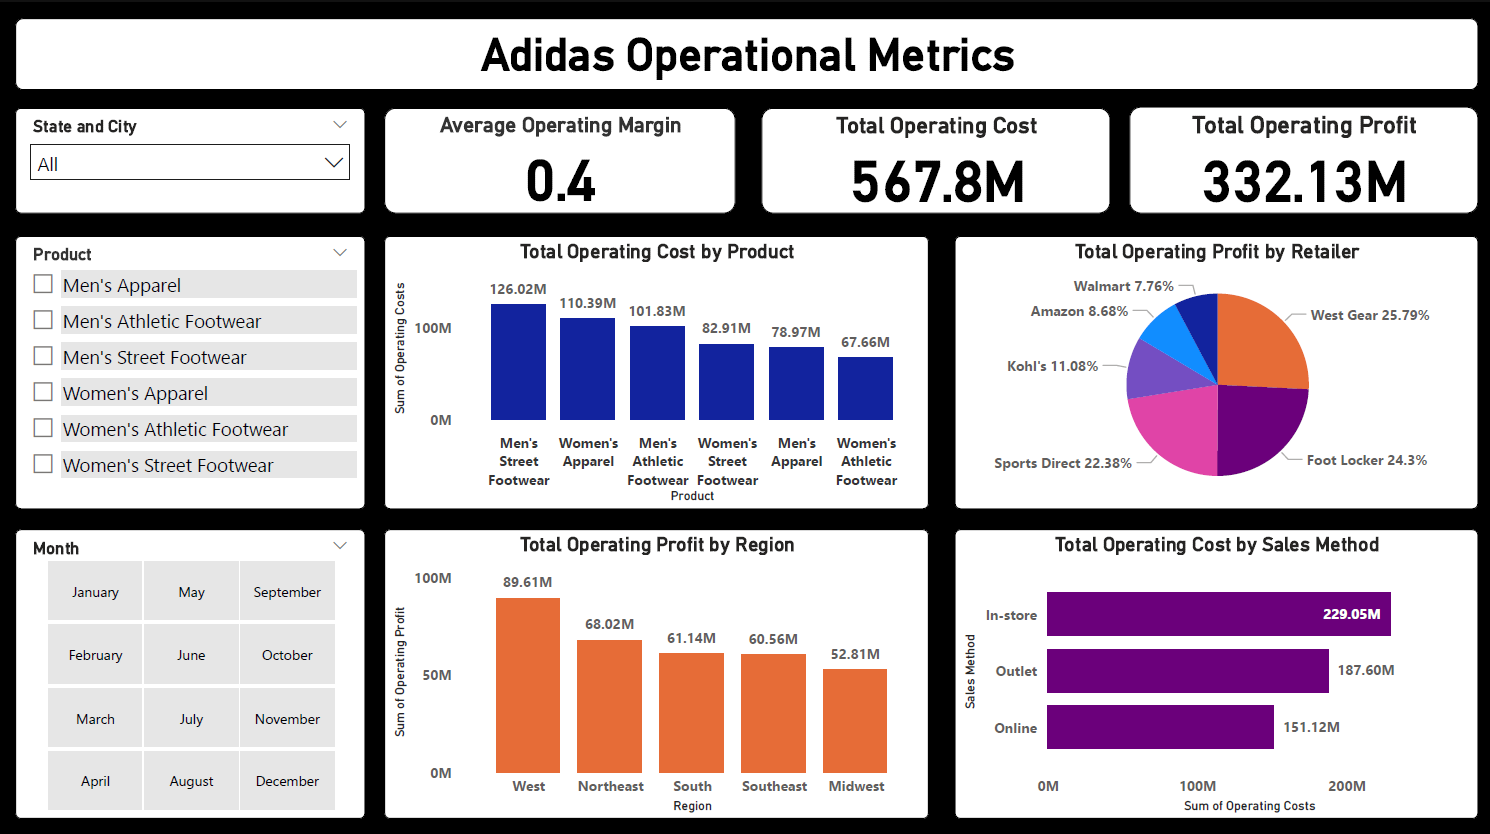

The page's visual inventory and layout, read from the dashboard file:
{"tool":"powerbi","page":{"name":"Adidas Operating","canvas":[1280,720],"ordinal":1},"visuals":[{"type":"card","title":"Total Operating Cost","fields":{"Values":["Sum(Adidas Sales Data.Operating Costs)"]},"box":[654.5,89.8,299.9,91.6],"z":0},{"type":"textbox","box":[12.6,12.6,1257.8,62.8],"z":1000},{"type":"card","title":"Average Operating Margin","fields":{"Values":["Avg(Adidas Sales Data.Operating Margin)"]},"box":[330.4,89.8,301.6,91.6],"z":2000},{"type":"card","title":"Total Operating Profit","fields":{"Values":["Sum(Adidas Sales Data.Operating Profit)"]},"box":[969.6,88.9,300.7,92.5],"z":3000},{"type":"columnChart","title":"Total Operating Profit by Region","fields":{"Category":["Adidas Sales Data.Region"],"Y":["Sum(Adidas Sales Data.Operating Profit)"]},"box":[330.4,452.5,467.7,248.7],"z":4000},{"type":"columnChart","title":"Total Operating Cost by Product","fields":{"Category":["Adidas Sales Data.Product"],"Y":["Sum(Adidas Sales Data.Operating Costs)"]},"box":[330.4,200.2,467.7,235.2],"z":5000},{"type":"clusteredBarChart","title":"Total Operating Cost by Sales Method","fields":{"Category":["Adidas Sales Data.Sales Method"],"Y":["Sum(Adidas Sales Data.Operating Costs)"]},"box":[819.7,452.5,450.7,248.7],"z":6000},{"type":"pieChart","title":"Total Operating Profit by Retailer","fields":{"Category":["Adidas Sales Data.Retailer"],"Y":["Sum(Adidas Sales Data.Operating Profit)"]},"box":[819.7,200.2,450.7,235.2],"z":7000},{"type":"slicer","fields":{"Values":["Adidas Sales Data.Product"]},"box":[12.6,200.2,301.6,235.2],"z":8000},{"type":"slicer","title":"State and City","fields":{"Values":["Adidas Sales Data.State","Adidas Sales Data.City"]},"box":[12.6,89.8,301.6,91.6],"z":9000},{"type":"slicer","fields":{"Values":["Adidas Sales Data.Invoice Date.Variation.Date Hierarchy.Month"]},"box":[12.6,452.5,301.6,248.7],"z":10000}]}

Visuals, with their boxes in screenshot pixels (x1, y1, x2, y2), scaled from the page's 1280x720 canvas onto the 1490x834 screenshot:
"Total Operating Cost" card: [762,104,1111,210]
textbox: [15,15,1479,87]
"Average Operating Margin" card: [385,104,736,210]
"Total Operating Profit" card: [1129,103,1479,210]
"Total Operating Profit by Region" columnChart: [385,524,929,812]
"Total Operating Cost by Product" columnChart: [385,232,929,504]
"Total Operating Cost by Sales Method" clusteredBarChart: [954,524,1479,812]
"Total Operating Profit by Retailer" pieChart: [954,232,1479,504]
slicer - Adidas Sales Data.Product: [15,232,366,504]
"State and City" slicer: [15,104,366,210]
slicer - Adidas Sales Data.Invoice Date.Variation.Date Hierarchy.Month: [15,524,366,812]
